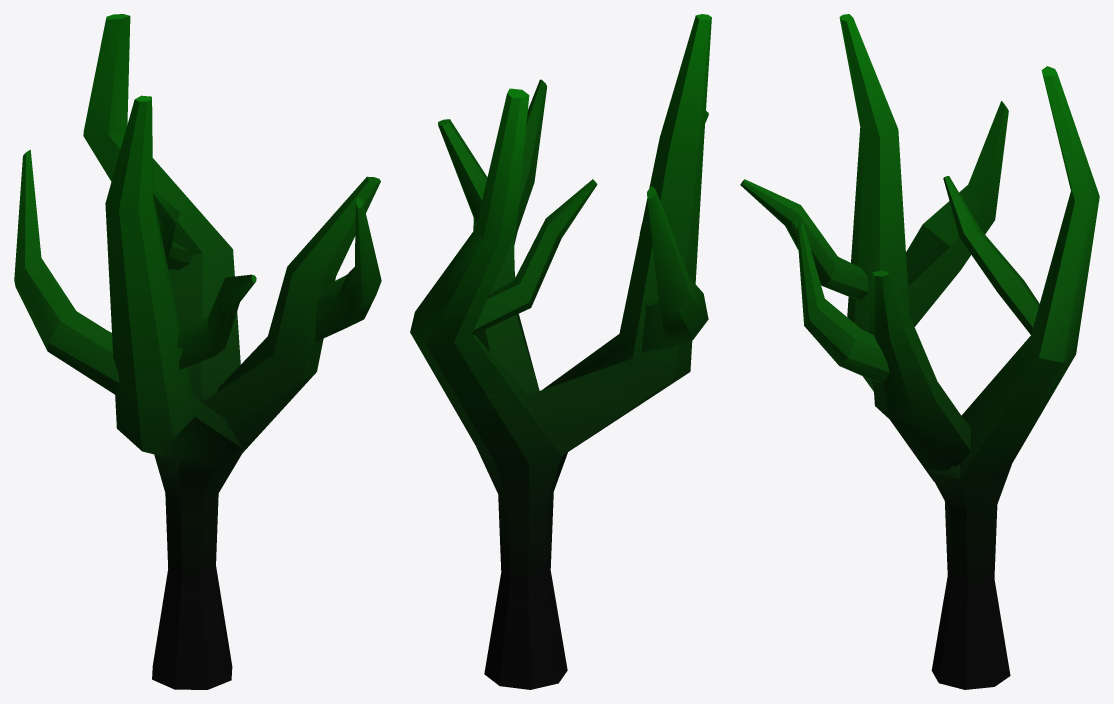
The model's file is Trees.fbx.
3 views of the same model, side by side, from view 1: azimuth 30°, elevation 25°; view 2: azimuth 150°, elevation 25°; view 3: azimuth 270°, elevation 25° (orthographic). The views are drawn at different scales.
Parts seen in each view (by area): view 1: Tree_01; view 2: Tree_01; view 3: Tree_01.
Boxes of the visible parts, box(x1,y1,x2,y2) form: Tree_01: box(14, 14, 381, 689); Tree_01: box(410, 14, 711, 689); Tree_01: box(740, 14, 1099, 689).
Size of the model in its own units: 588 by 1173 by 633.
